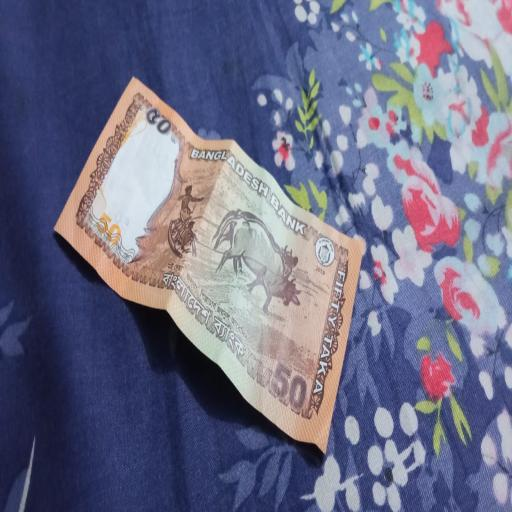50taka: (52, 77, 365, 452)
